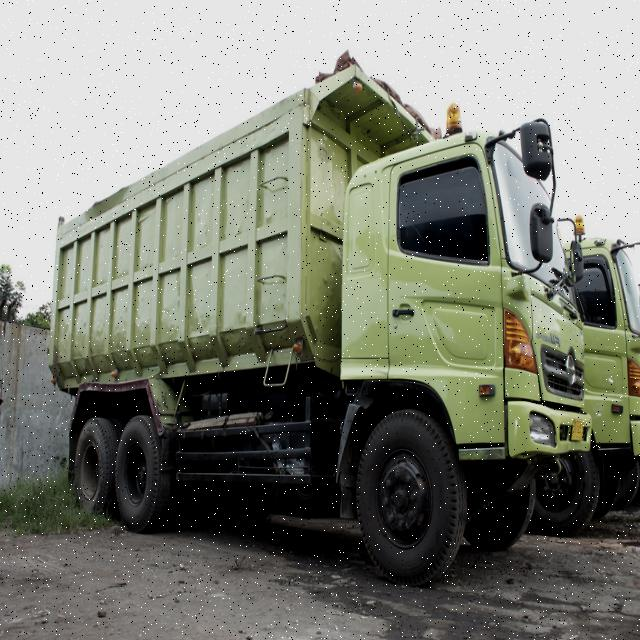truck: (48, 64, 594, 584)
